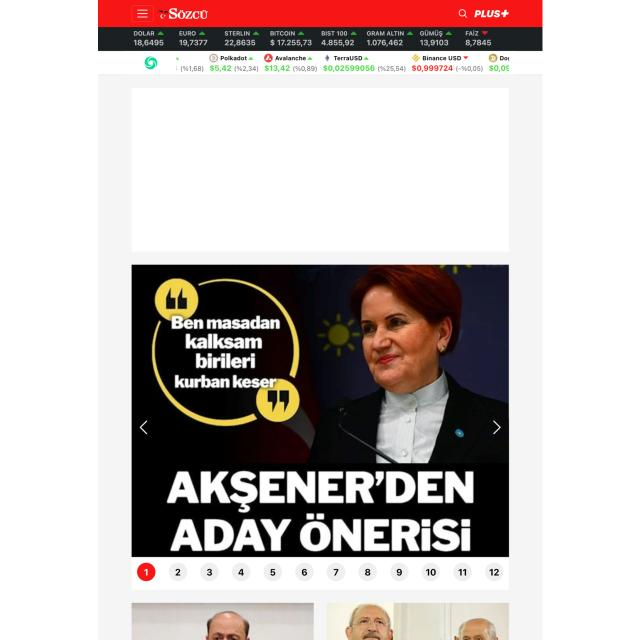logo: (156, 5, 212, 23)
navigation: (136, 5, 151, 21)
